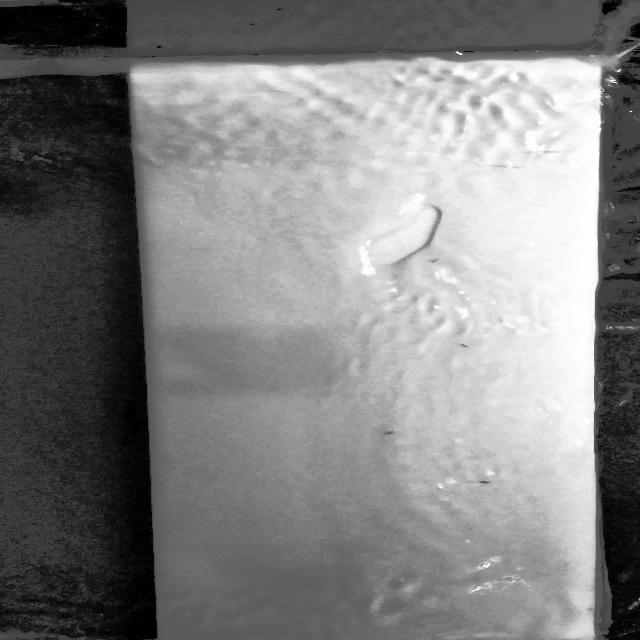shrimp: (472, 476, 493, 487), (377, 427, 399, 437), (458, 340, 476, 351)
